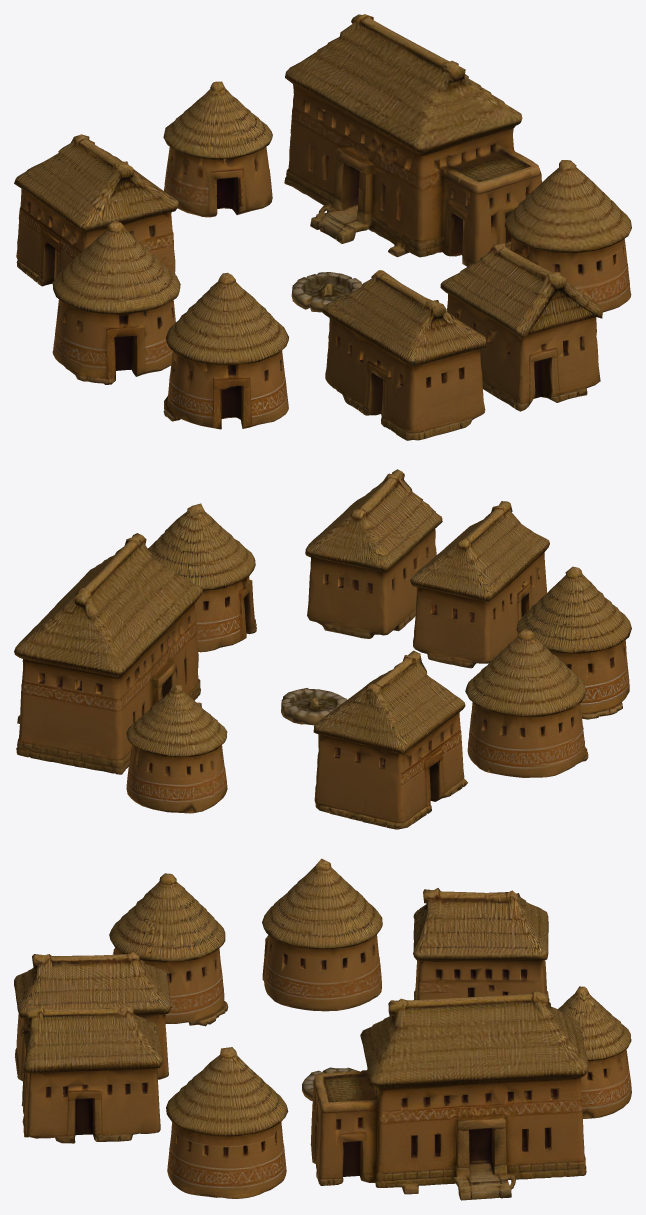
Rendered from Ancient Village (West African).fbx.
The picture shows the model from 3 angles, top to bottom: view 1: azimuth 30°, elevation 25°; view 2: azimuth 150°, elevation 25°; view 3: azimuth 270°, elevation 25°; orthographic projection. The views are drawn at different scales.
Visible parts, largest first — view 1: tripo_node_8dc351a1; view 2: tripo_node_8dc351a1; view 3: tripo_node_8dc351a1.
Boxes of the visible parts, x1,y1,x2,y2 form: tripo_node_8dc351a1: (14,14,631,440); tripo_node_8dc351a1: (14,469,631,829); tripo_node_8dc351a1: (14,858,631,1200).
Size of the model in its own units: 0.9152 by 0.2976 by 1.
